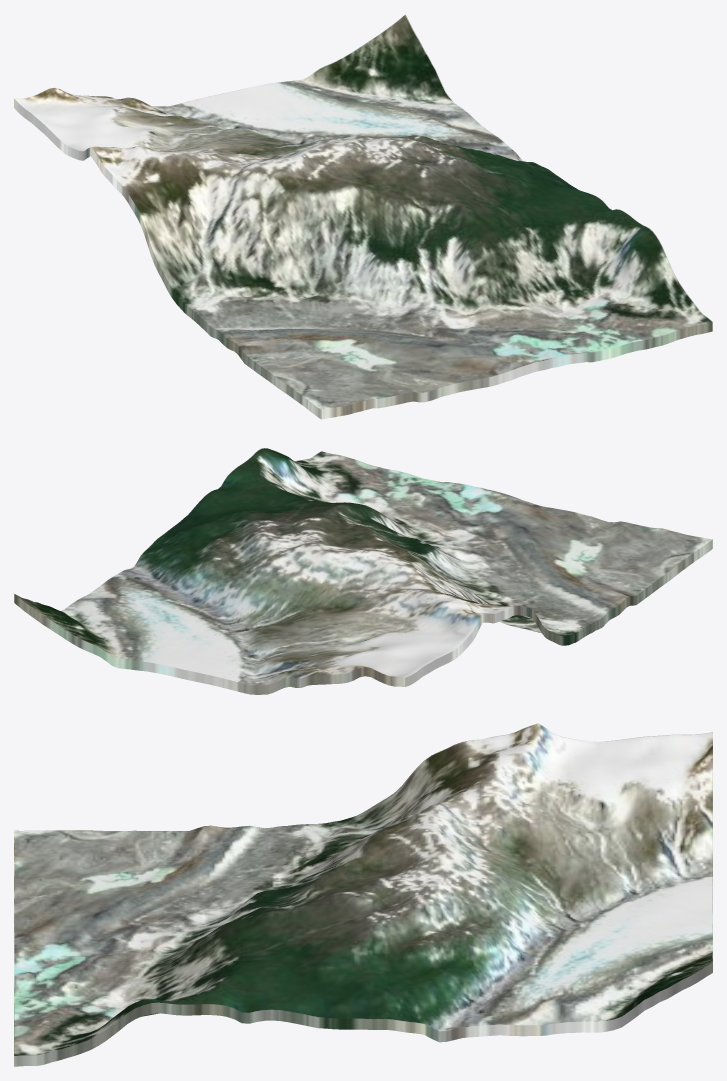
3 views of the same model, one above another, from view 1: azimuth 30°, elevation 25°; view 2: azimuth 150°, elevation 25°; view 3: azimuth 270°, elevation 25° (orthographic). The views are drawn at different scales.
Parts seen in each view (by area): view 1: tile; view 2: tile; view 3: tile.
Part boxes in pixels (box(x1,y1,x2,y2)): tile: box(14, 14, 712, 419); tile: box(14, 448, 712, 694); tile: box(14, 723, 712, 1066).
Bounding box in the file's own units: 4050 × 1122 × 5505.
1 material, 1 textured.
